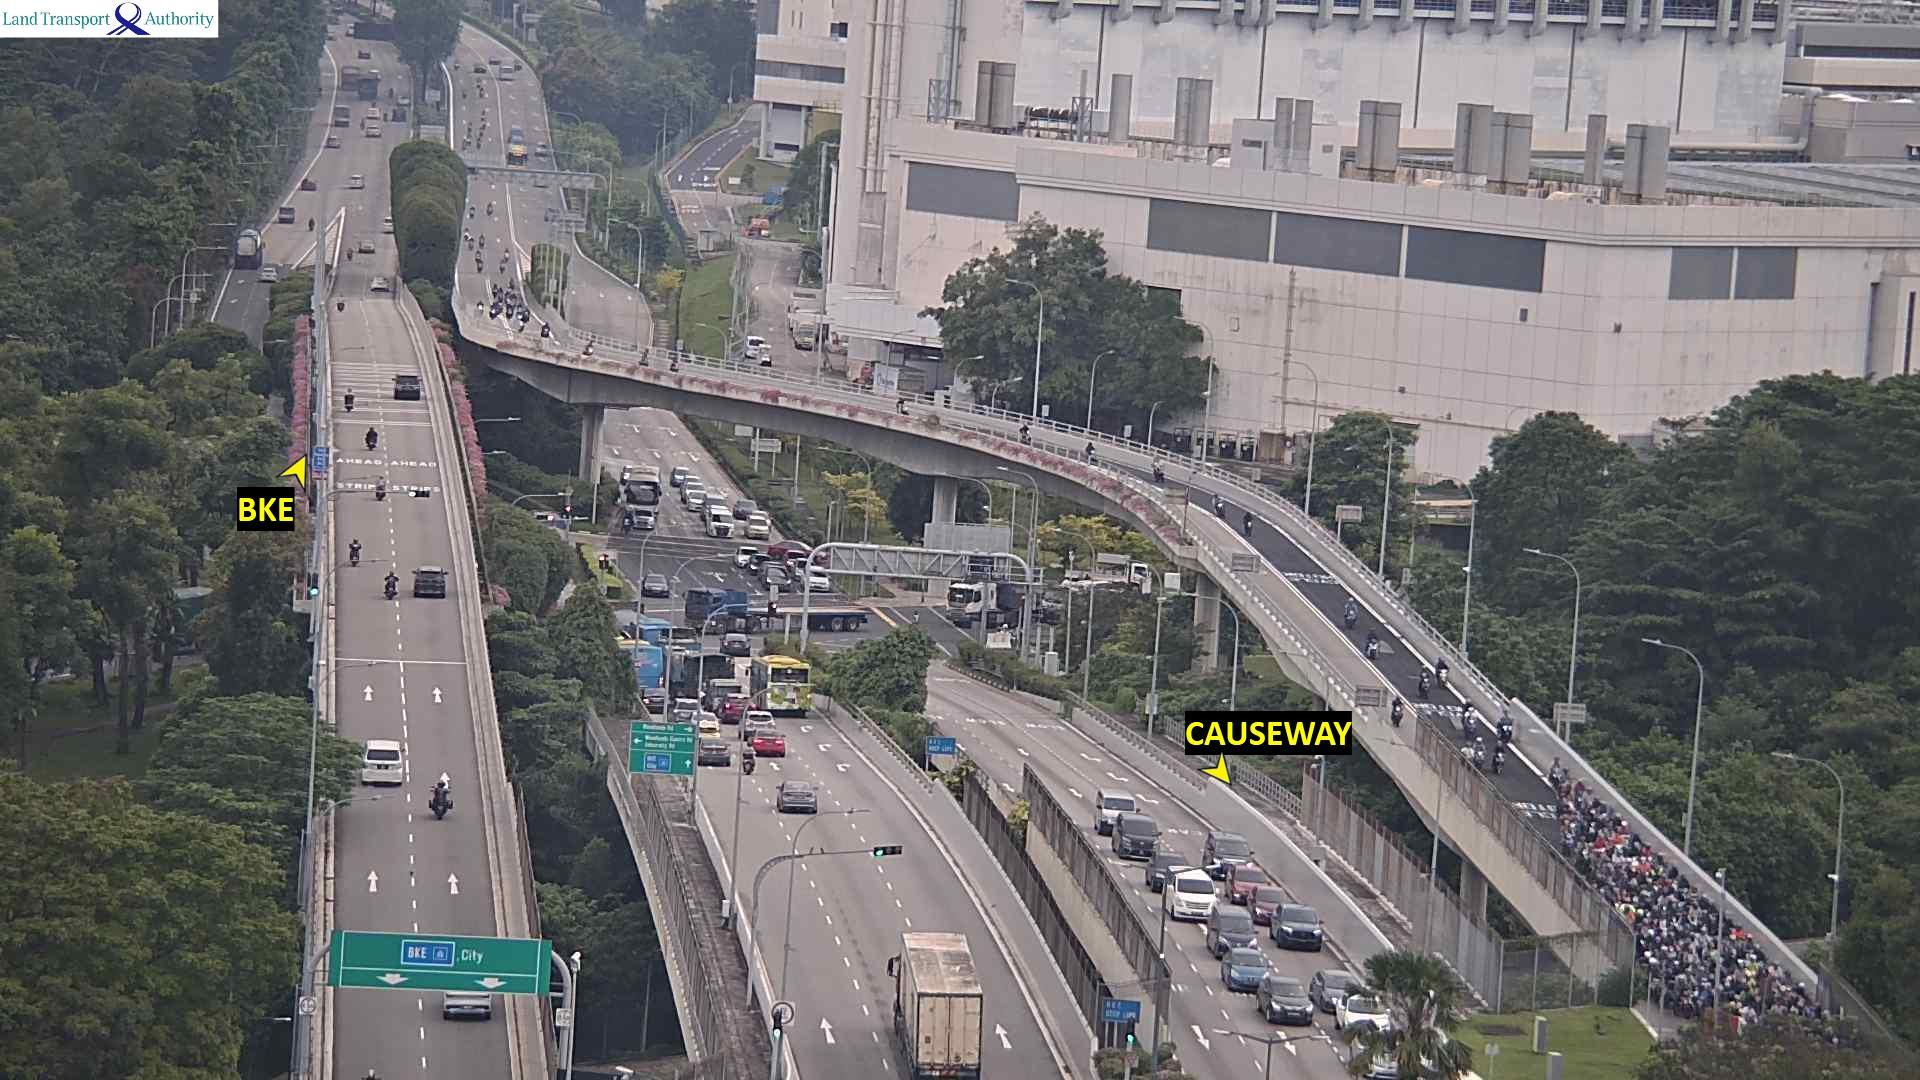vehicle-causeway-johor: (1162, 872, 1226, 921), (1314, 973, 1372, 1018), (1113, 814, 1166, 859), (1254, 984, 1310, 1025), (1223, 954, 1284, 991), (1267, 919, 1329, 954), (1143, 857, 1200, 894), (1265, 907, 1318, 944), (1245, 888, 1299, 921), (1257, 1000, 1323, 1027), (1210, 909, 1260, 942), (1097, 787, 1133, 832), (1210, 833, 1249, 869), (1211, 930, 1262, 956), (708, 511, 734, 536), (700, 493, 728, 514), (763, 568, 790, 589), (745, 516, 768, 538), (805, 569, 828, 589), (736, 498, 757, 519), (1437, 658, 1451, 687), (1497, 709, 1511, 736), (1346, 596, 1357, 628), (735, 547, 755, 564), (1366, 630, 1378, 658), (1547, 756, 1560, 780), (750, 556, 772, 570), (1393, 698, 1403, 727), (793, 559, 812, 574), (672, 467, 689, 483), (1477, 735, 1486, 765), (786, 553, 804, 568), (1494, 746, 1505, 769), (1083, 446, 1095, 467), (1466, 708, 1477, 730), (1422, 666, 1429, 699), (689, 495, 705, 509), (684, 484, 698, 500), (1151, 459, 1162, 479), (1244, 514, 1253, 534), (895, 398, 907, 413), (1465, 743, 1472, 767), (1214, 495, 1223, 513), (1021, 423, 1029, 443), (638, 350, 650, 363), (487, 202, 495, 216), (542, 323, 550, 336), (468, 205, 475, 219), (586, 342, 594, 354), (523, 308, 531, 320), (490, 303, 496, 319), (490, 284, 498, 296), (498, 261, 505, 274), (478, 300, 483, 317), (1572, 823, 1577, 840), (479, 235, 485, 249), (1562, 767, 1568, 780), (490, 305, 496, 318), (507, 278, 514, 289), (477, 261, 483, 273), (1088, 444, 1093, 458), (1562, 815, 1567, 828), (504, 248, 509, 259), (470, 240, 475, 251), (475, 252, 480, 261), (1560, 788, 1564, 798)
vehicle-causeway-singapore: (895, 932, 980, 1080), (660, 652, 737, 696), (750, 658, 808, 691), (365, 740, 400, 784), (437, 998, 498, 1022), (780, 783, 826, 813), (416, 572, 457, 601), (746, 738, 785, 761), (429, 781, 451, 821), (758, 705, 813, 720), (736, 712, 775, 733), (394, 379, 423, 405), (701, 750, 741, 767), (385, 572, 400, 600), (370, 275, 391, 293), (374, 474, 387, 503), (355, 545, 370, 562), (358, 239, 375, 253), (365, 427, 373, 450), (342, 396, 352, 414), (383, 215, 393, 233)
